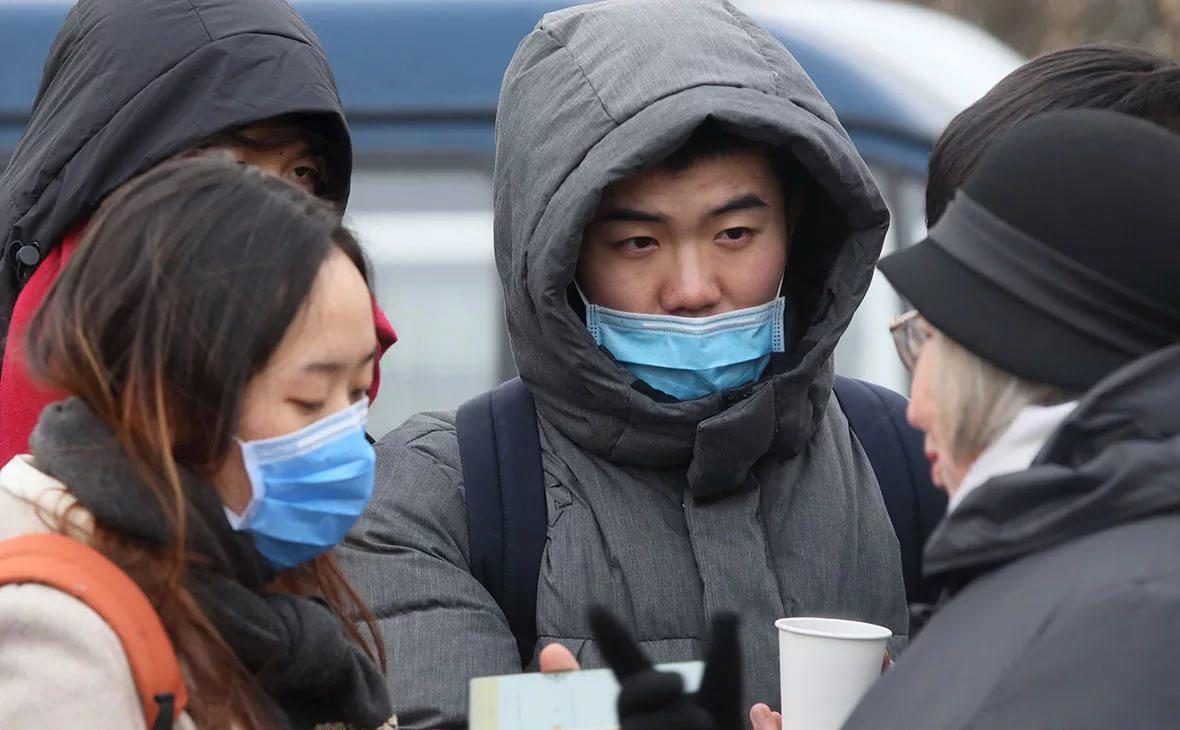correctlyWear: (217, 295, 396, 569)
incorrectlyWear: (575, 162, 792, 406)
noWear: (890, 271, 1031, 511)
